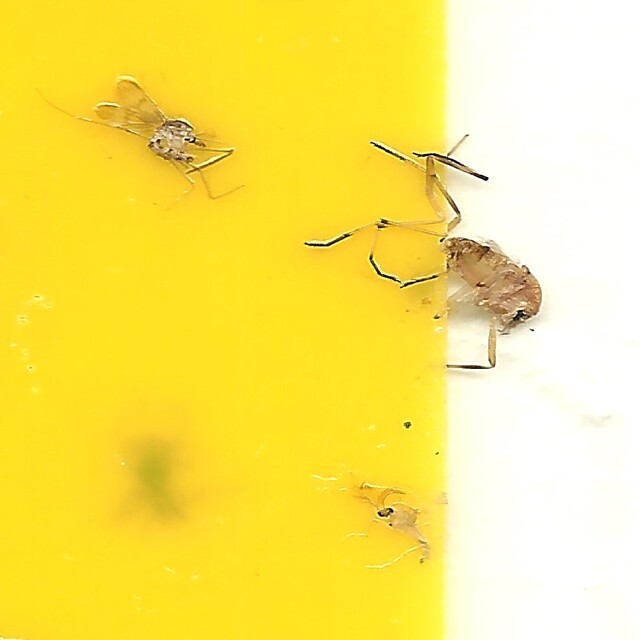Nematocera: (332, 144, 546, 375), (94, 75, 240, 183), (356, 473, 449, 565)
